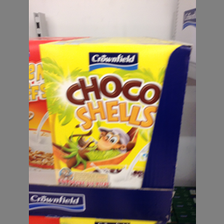cereal: (39, 40, 184, 188)
